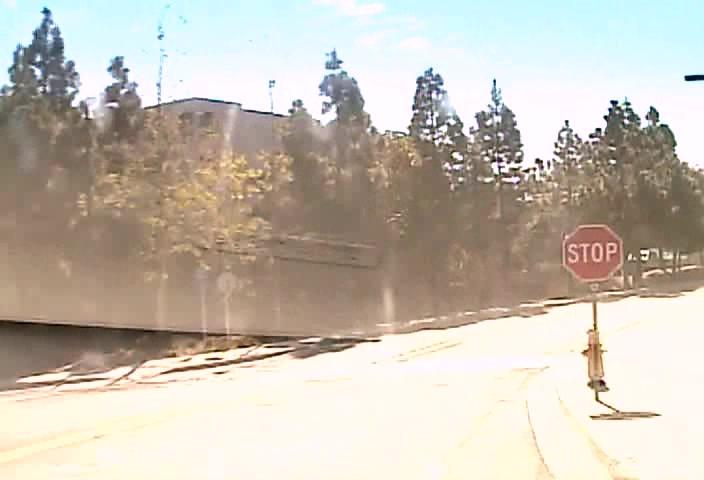stop: (562, 224, 623, 282)
